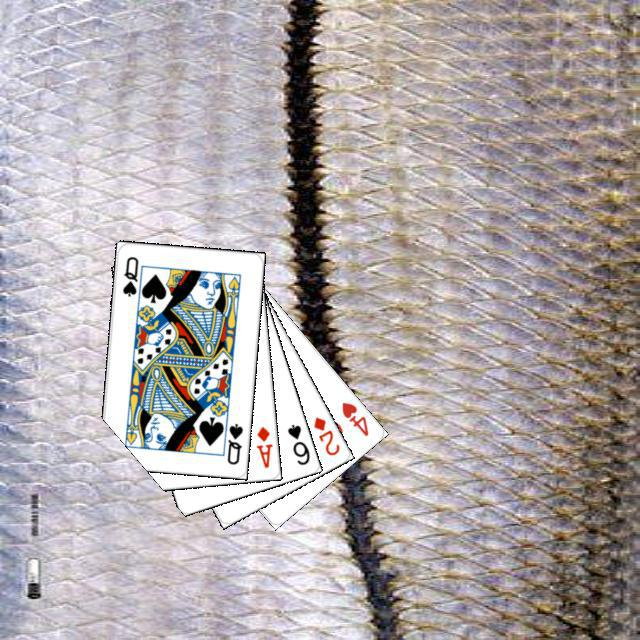2d: (308, 411, 341, 457)
4h: (337, 397, 370, 438)
6s: (282, 419, 311, 467)
Ad: (251, 421, 274, 470)
Qs: (222, 419, 244, 466), (118, 252, 140, 298)
